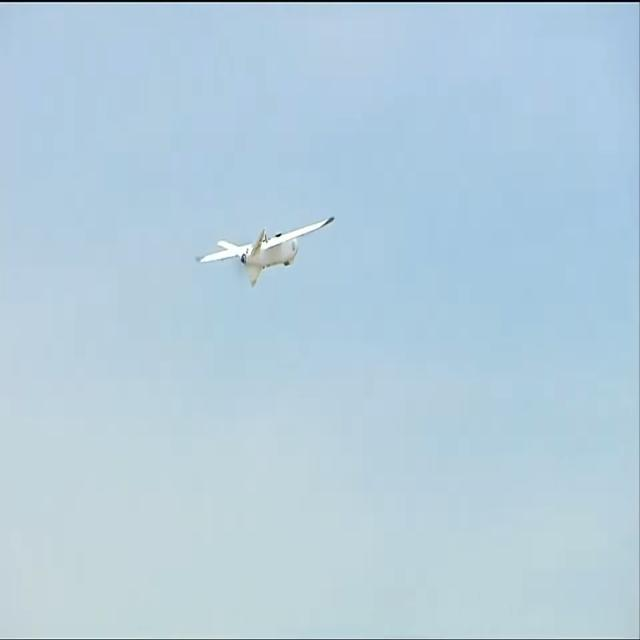iha: (187, 251, 331, 256)
